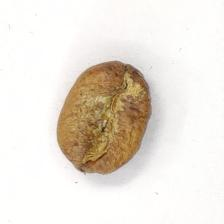NG: (73, 64, 144, 169)
